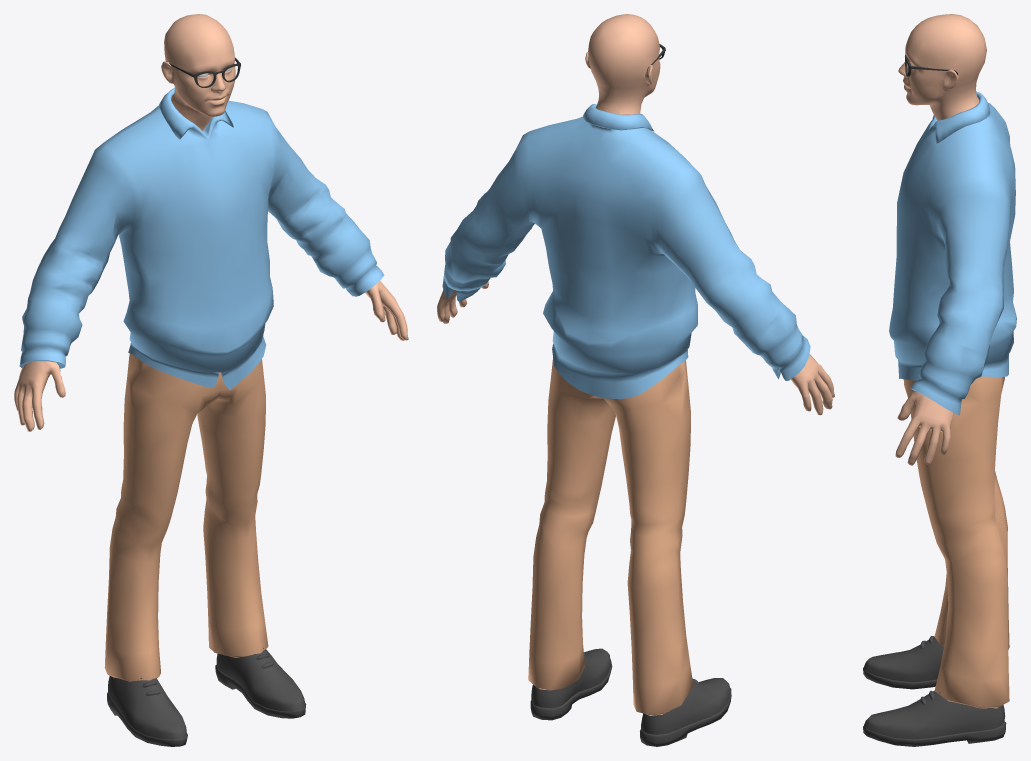
The model's file is Avtar_2.gltf.
3 views of the same model, side by side, from view 1: azimuth 30°, elevation 25°; view 2: azimuth 150°, elevation 25°; view 3: azimuth 270°, elevation 25° (orthographic).
Parts seen in each view (by area): view 1: Wolf3D_Outfit_Top, Wolf3D_Outfit_Bottom, Wolf3D_Outfit_Footwear, Wolf3D_Head, Wolf3D_Body; view 2: Wolf3D_Outfit_Top, Wolf3D_Outfit_Bottom, Wolf3D_Outfit_Footwear, Wolf3D_Head, Wolf3D_Body; view 3: Wolf3D_Outfit_Top, Wolf3D_Outfit_Bottom, Wolf3D_Outfit_Footwear, Wolf3D_Head, Wolf3D_Body.
Part boxes in pixels (box(x1,y1,x2,y2)): Wolf3D_Outfit_Top: box(19, 88, 384, 390); Wolf3D_Outfit_Bottom: box(104, 353, 268, 681); Wolf3D_Outfit_Footwear: box(107, 648, 306, 746); Wolf3D_Head: box(161, 14, 235, 131); Wolf3D_Body: box(14, 281, 408, 431); Wolf3D_Outfit_Top: box(442, 104, 810, 399); Wolf3D_Outfit_Bottom: box(528, 358, 693, 715); Wolf3D_Outfit_Footwear: box(530, 648, 731, 746); Wolf3D_Head: box(585, 14, 660, 114); Wolf3D_Body: box(437, 281, 834, 415); Wolf3D_Outfit_Top: box(889, 91, 1016, 415); Wolf3D_Outfit_Bottom: box(903, 376, 1009, 708); Wolf3D_Outfit_Footwear: box(863, 636, 1006, 746); Wolf3D_Head: box(898, 14, 986, 120); Wolf3D_Body: box(895, 391, 953, 465).
Bounding box in the file's own units: 1.06 × 1.83 × 0.3697.
